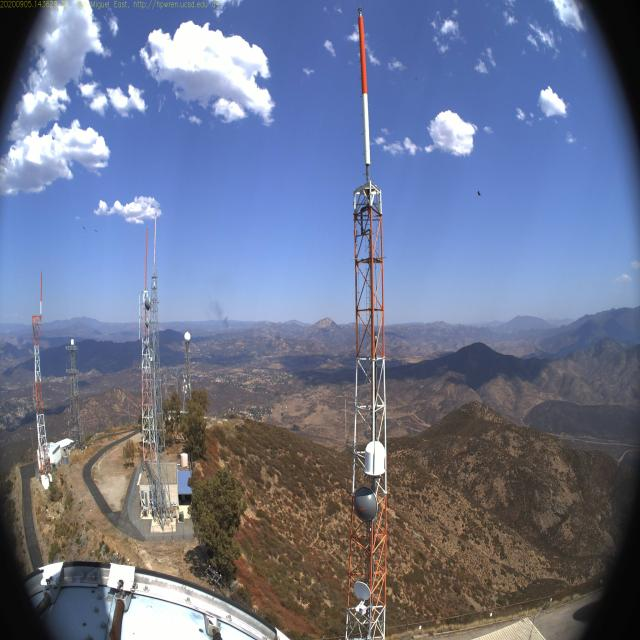smoke: (209, 300, 232, 332)
